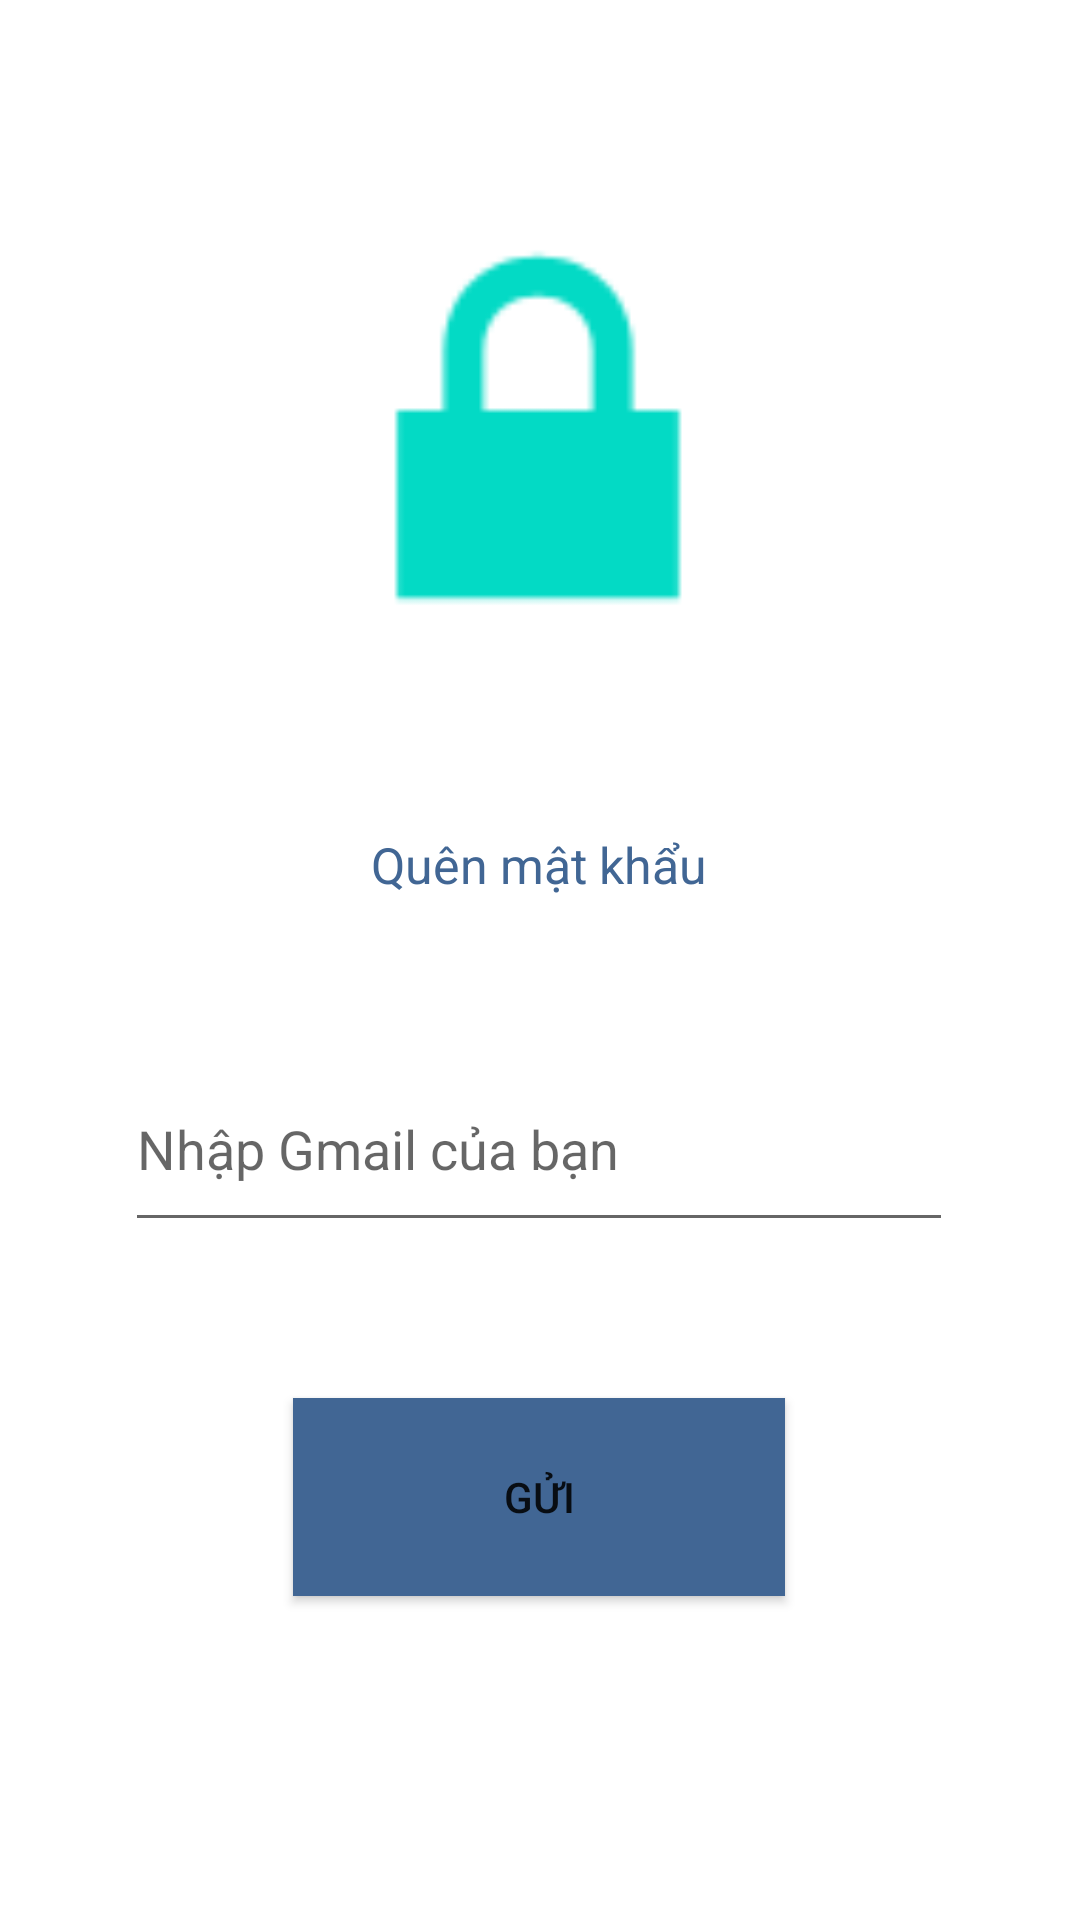

Icons on this 1080px x 1920px Android screen, each with its box as (x1, y1, x2, y2):
lock: (394, 252, 682, 603)
